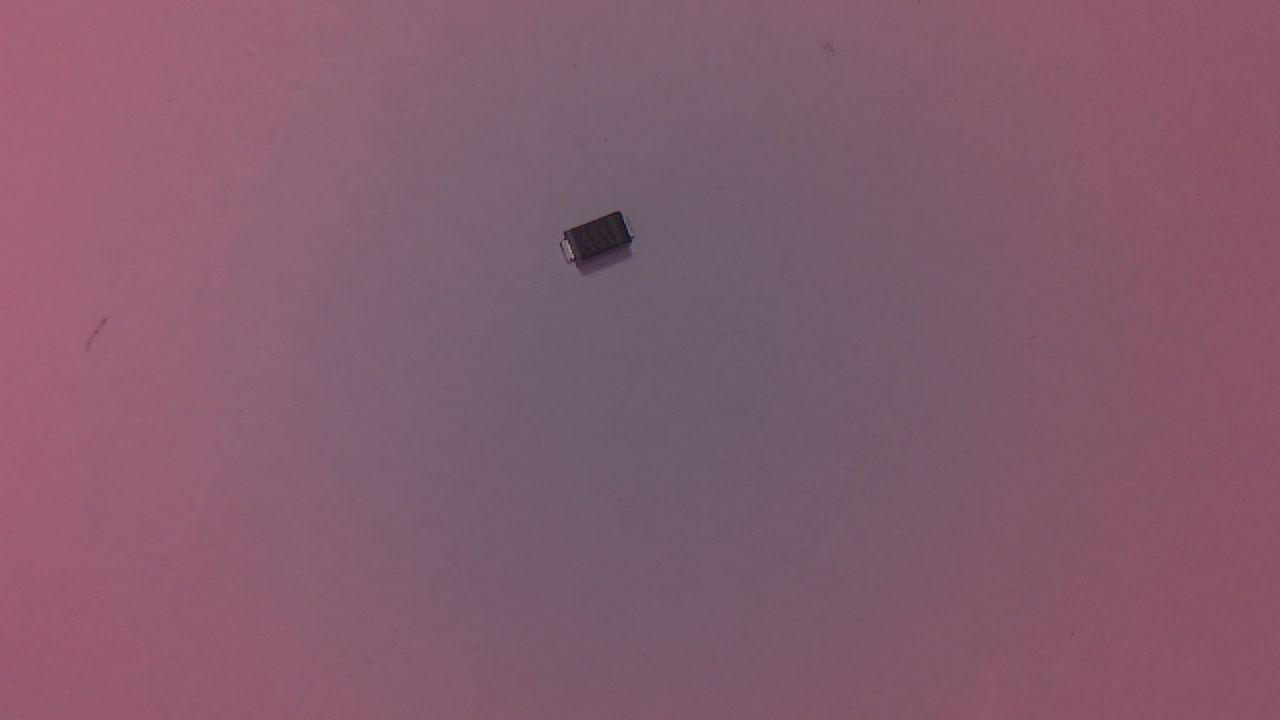Diode: (564, 214, 643, 276)
